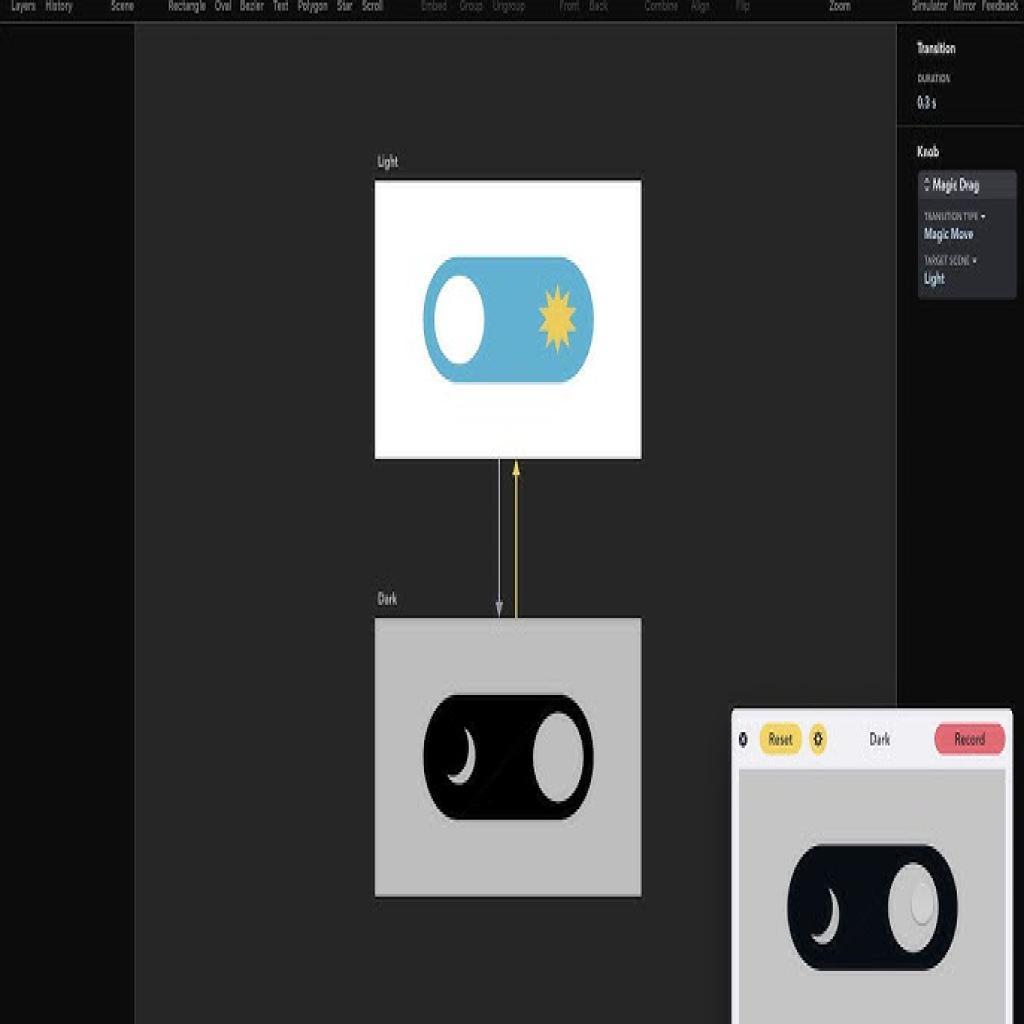switch: (787, 845, 962, 973), (424, 698, 596, 823), (426, 257, 595, 384)
